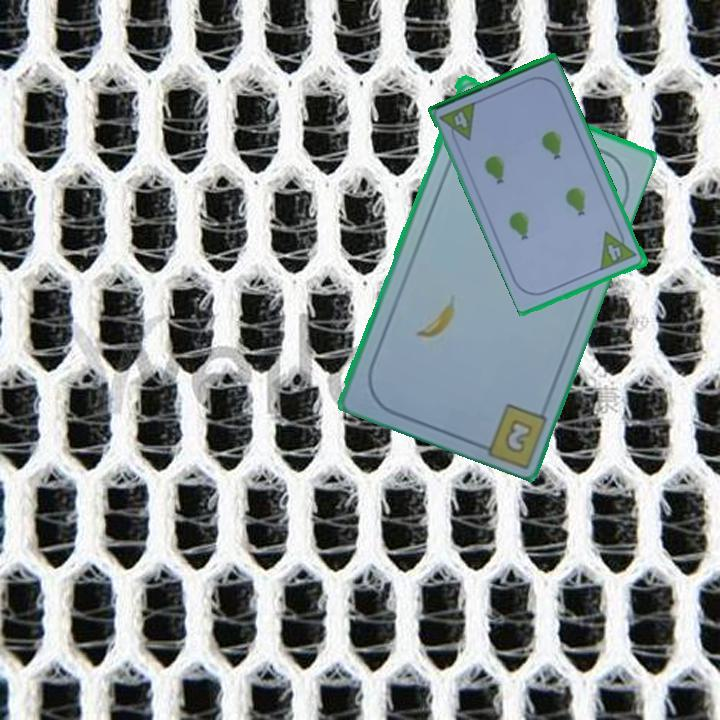2b: (500, 414, 536, 456)
4p: (436, 99, 479, 149), (597, 224, 640, 273)
